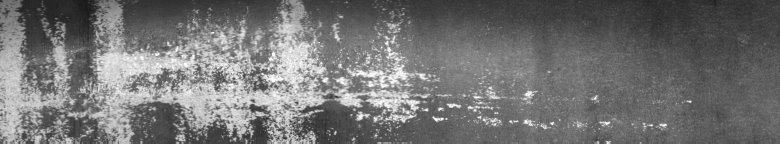kb: (5, 4, 692, 136)
